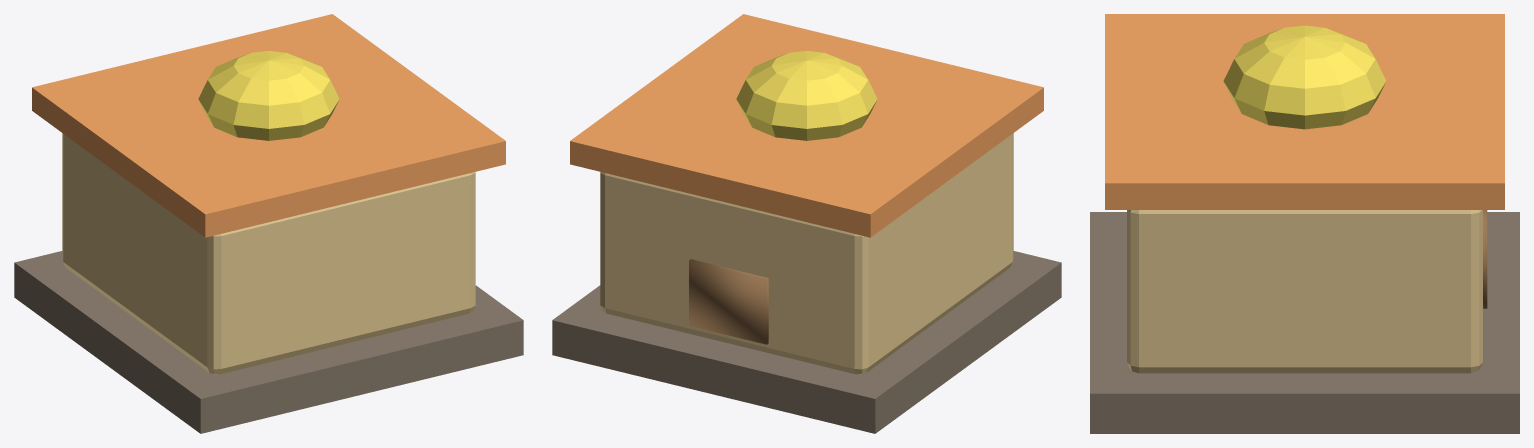
The model's file is storage.glb.
3 views of the same model, side by side, from view 1: azimuth 30°, elevation 25°; view 2: azimuth 150°, elevation 25°; view 3: azimuth 270°, elevation 25° (orthographic). The views are drawn at different scales.
Parts seen in each view (by area): view 1: Body, Roof, Base, Gold; view 2: Roof, Body, Base, Gold, Door; view 3: Roof, Body, Base, Gold, Door.
Boxes of the visible parts, bbox=[...] form: Body: bbox=[62, 133, 475, 374]; Roof: bbox=[32, 14, 505, 237]; Base: bbox=[14, 251, 523, 433]; Gold: bbox=[198, 51, 339, 140]; Roof: bbox=[570, 14, 1043, 237]; Body: bbox=[600, 133, 1013, 374]; Base: bbox=[552, 251, 1061, 433]; Gold: bbox=[736, 51, 877, 140]; Door: bbox=[689, 259, 768, 344]; Roof: bbox=[1105, 14, 1504, 209]; Body: bbox=[1127, 210, 1482, 373]; Base: bbox=[1090, 212, 1519, 433]; Gold: bbox=[1223, 25, 1386, 129]; Door: bbox=[1483, 210, 1487, 308].
Bounding box in the file's own units: 2.9 × 2.28 × 2.9.
